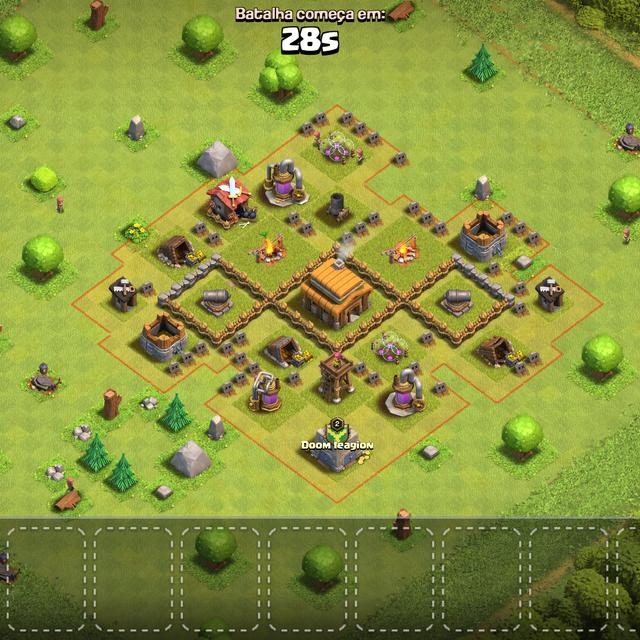Arqueira: (319, 350, 354, 404)
Canhao: (441, 285, 475, 317), (200, 287, 234, 316)
